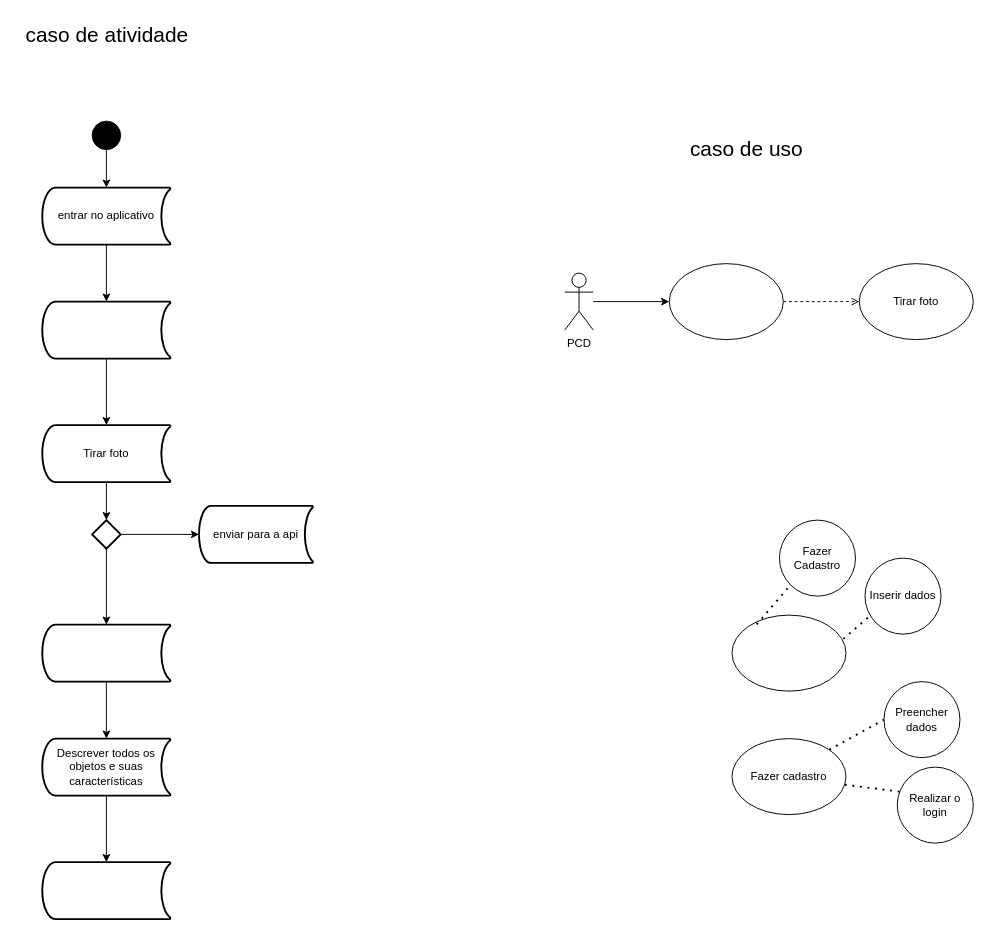
This 990x936 diagram has some shape labels left out. Here are the shapes that lost their labels. From the top down, the centre of each, then its label:
[725,301]: Descrever os objetos
[106,329]: solicitar o reconhecimento por comando de voz
[106,652]: Reconhecer a imagem
[788,652]: Fazer login
[106,890]: Falar em voz alta
